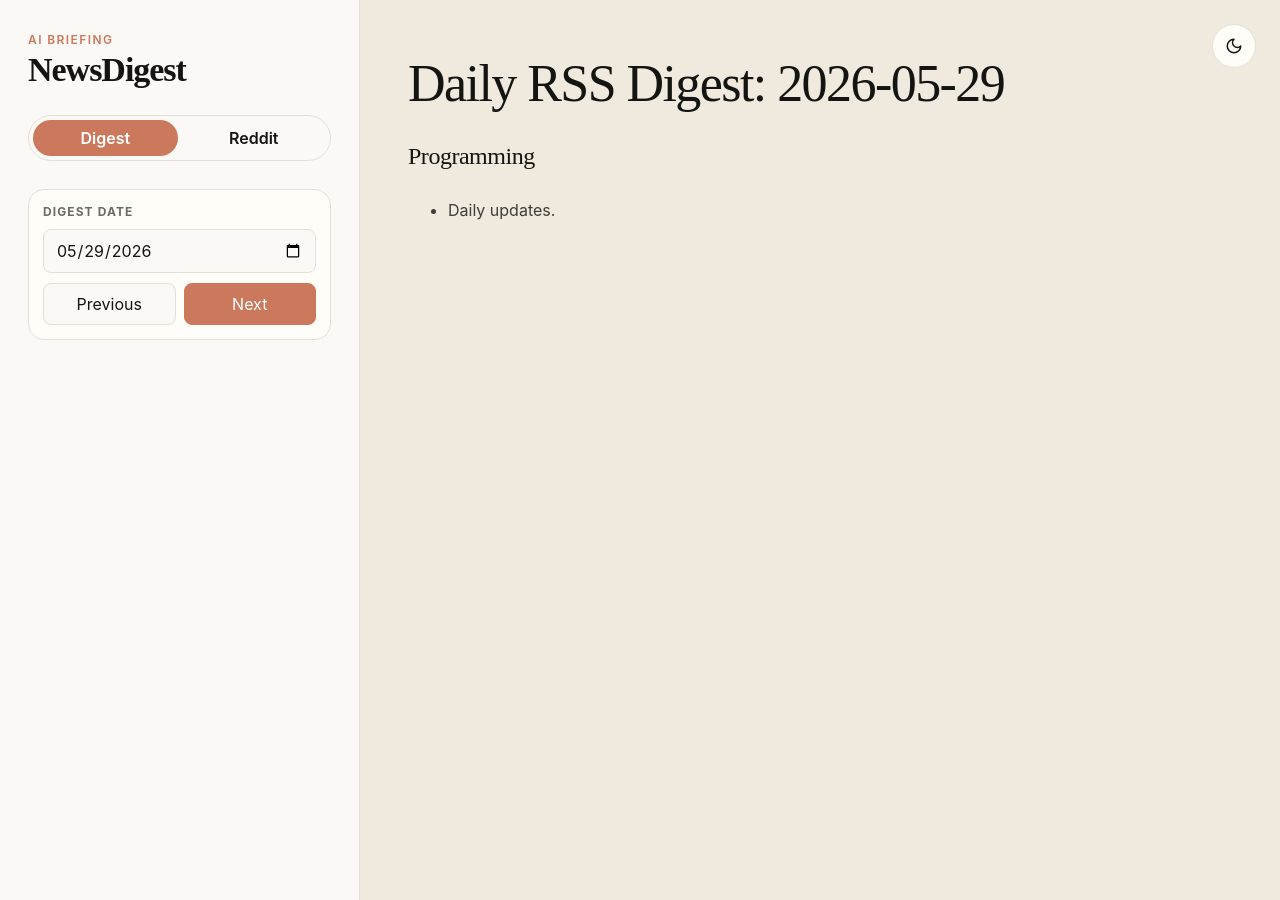
Test: App › toggles from light to dark theme and stores the choice
This screenshot has width=1280, height=900.
Expected: the heading "Programming" is shown, [408,143,535,169]
Click the button named "Switch to dark theme" at (1234, 46), box [1212,24,1256,68]
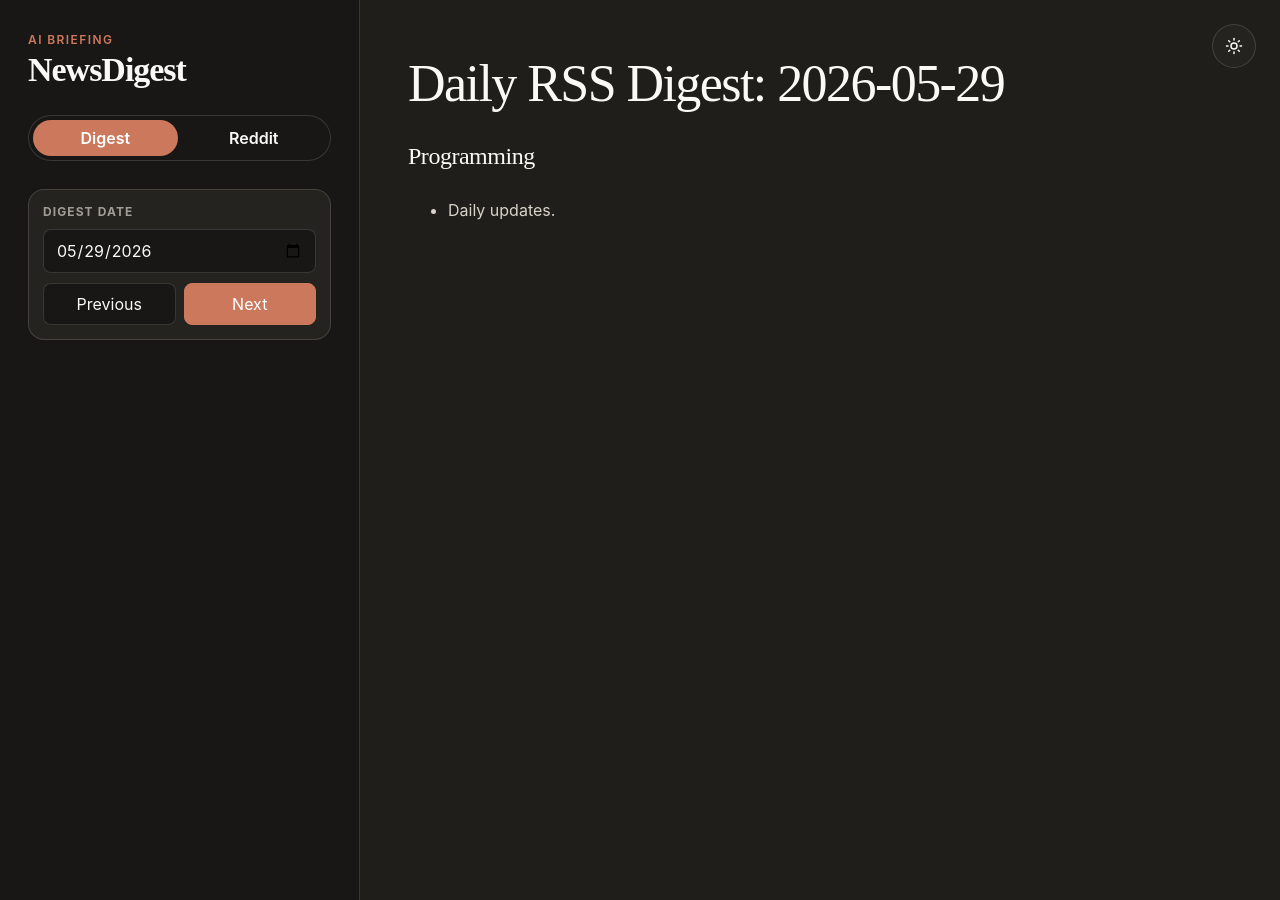
Now the button named "Switch to light theme" is shown, box [1212,24,1256,68]
